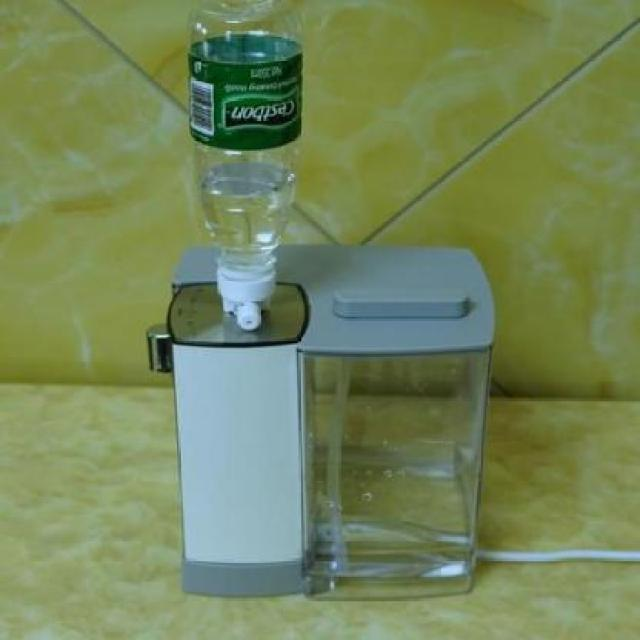cooler: (151, 237, 494, 612)
